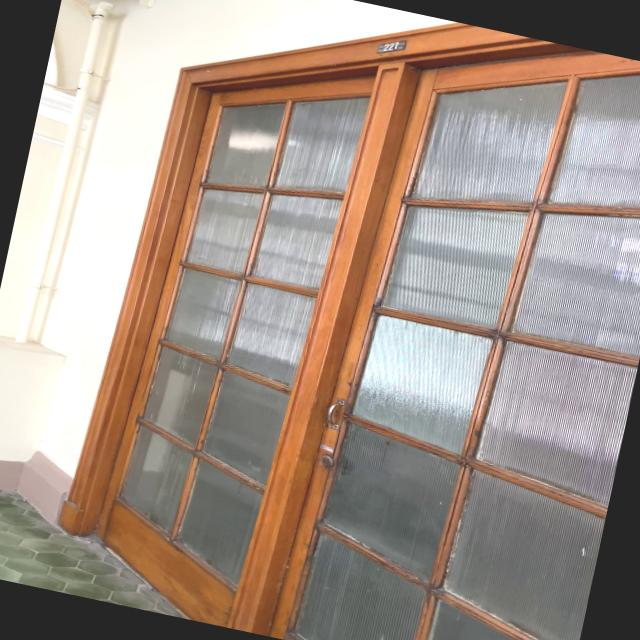room227: (372, 32, 408, 60)
